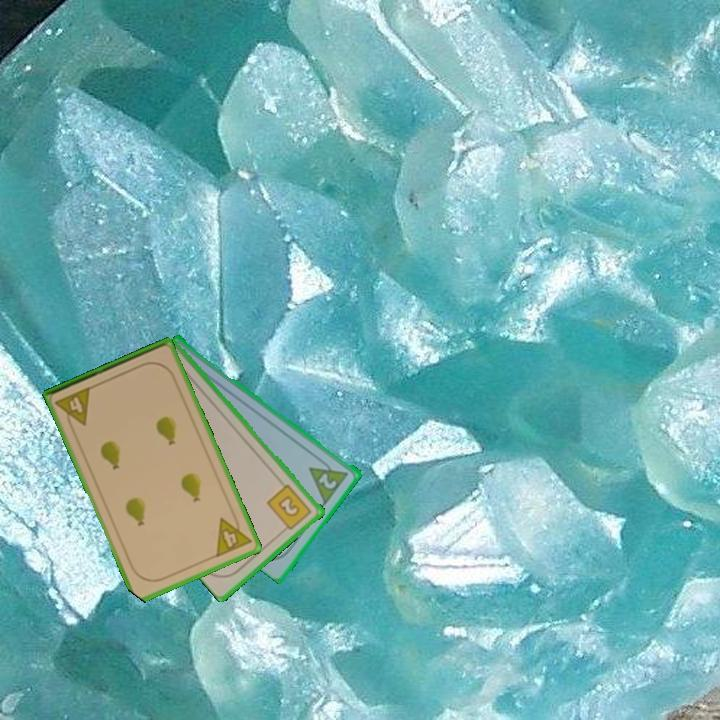2b: (264, 481, 315, 535)
2p: (315, 469, 340, 492)
4p: (212, 509, 254, 560), (52, 383, 94, 433)
